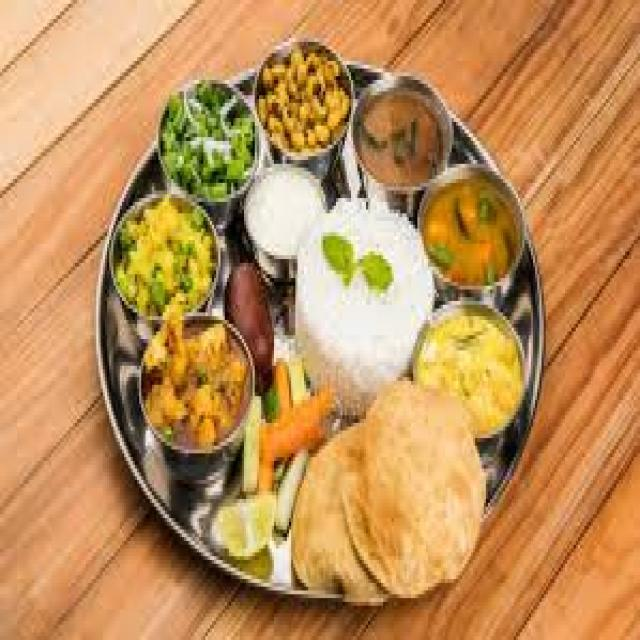curd: (242, 157, 328, 268)
dal: (425, 293, 532, 440), (113, 185, 220, 318)
raita: (241, 158, 325, 261)
rice: (293, 188, 429, 374), (108, 179, 219, 324)
roti: (291, 370, 485, 609)
sambar-rasam: (349, 69, 453, 192)
sweet: (217, 253, 285, 381)
veg-fry: (139, 298, 253, 472)
